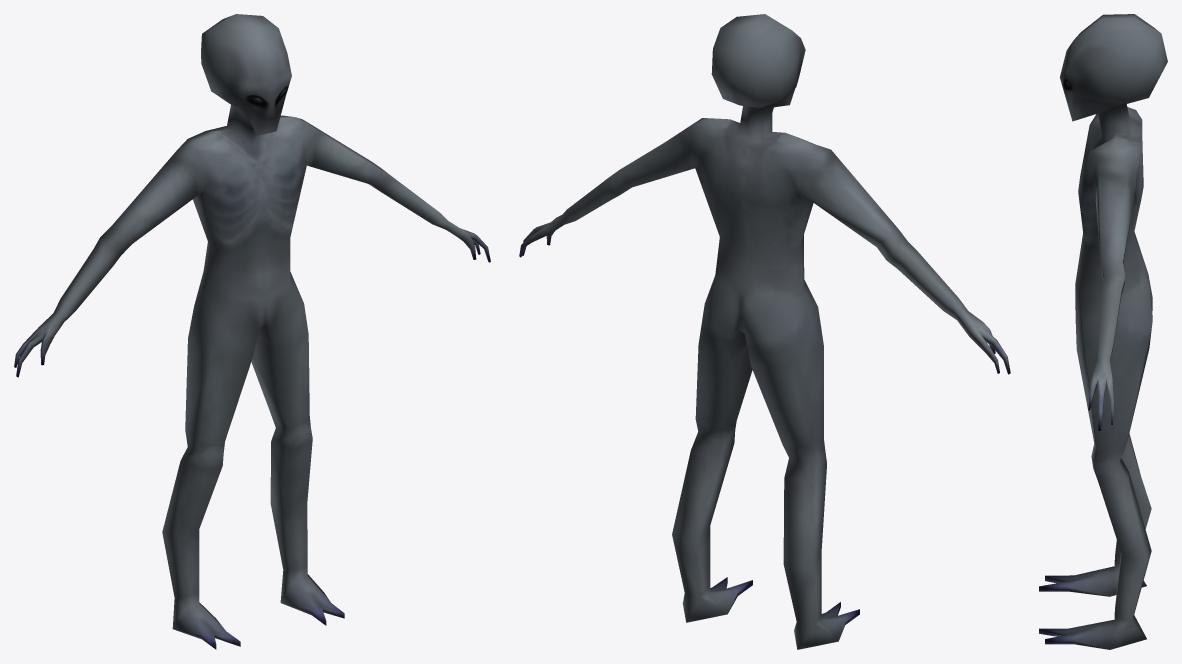
The model's file is havenboss.fbx.
3 views of the same model, side by side, from view 1: azimuth 30°, elevation 25°; view 2: azimuth 150°, elevation 25°; view 3: azimuth 270°, elevation 25° (orthographic). The views are drawn at different scales.
Visible parts, largest first — view 1: armlower.001; view 2: armlower.001; view 3: armlower.001.
Part boxes in pixels (x1=…): armlower.001: x1=14, y1=14, x2=490, y2=649; armlower.001: x1=519, y1=14, x2=1010, y2=649; armlower.001: x1=1039, y1=14, x2=1167, y2=649.
Bounding box in the file's own units: 274 × 325 × 63.85.
Materials: 1 (1 with a texture image).
